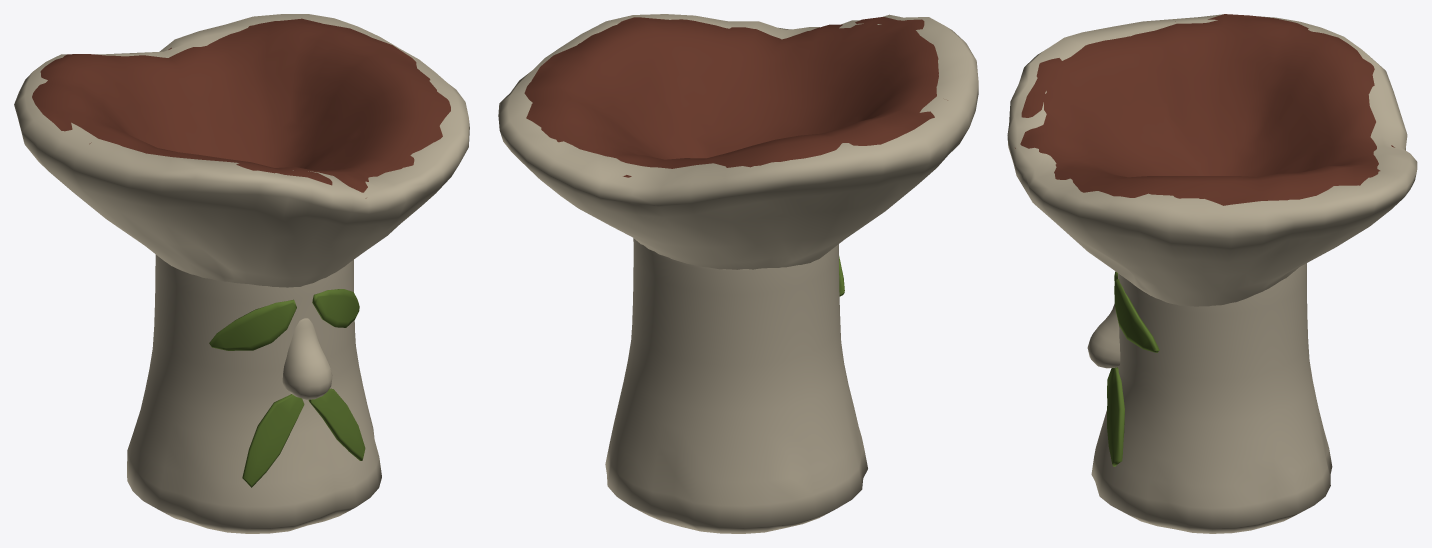
File: SM_Mushroom02_low_02.fbx
The picture shows the model from 3 angles, left to right: view 1: azimuth 30°, elevation 25°; view 2: azimuth 150°, elevation 25°; view 3: azimuth 270°, elevation 25°; orthographic projection. The views are drawn at different scales.
Parts seen in each view (by area): view 1: SM_Mushroom02; view 2: SM_Mushroom02; view 3: SM_Mushroom02.
Part boxes in pixels (<box>): SM_Mushroom02: <box>14,14,469,533</box>; SM_Mushroom02: <box>498,14,978,533</box>; SM_Mushroom02: <box>1007,14,1417,533</box>.
Size of the model in its own units: 425 by 431 by 402.
